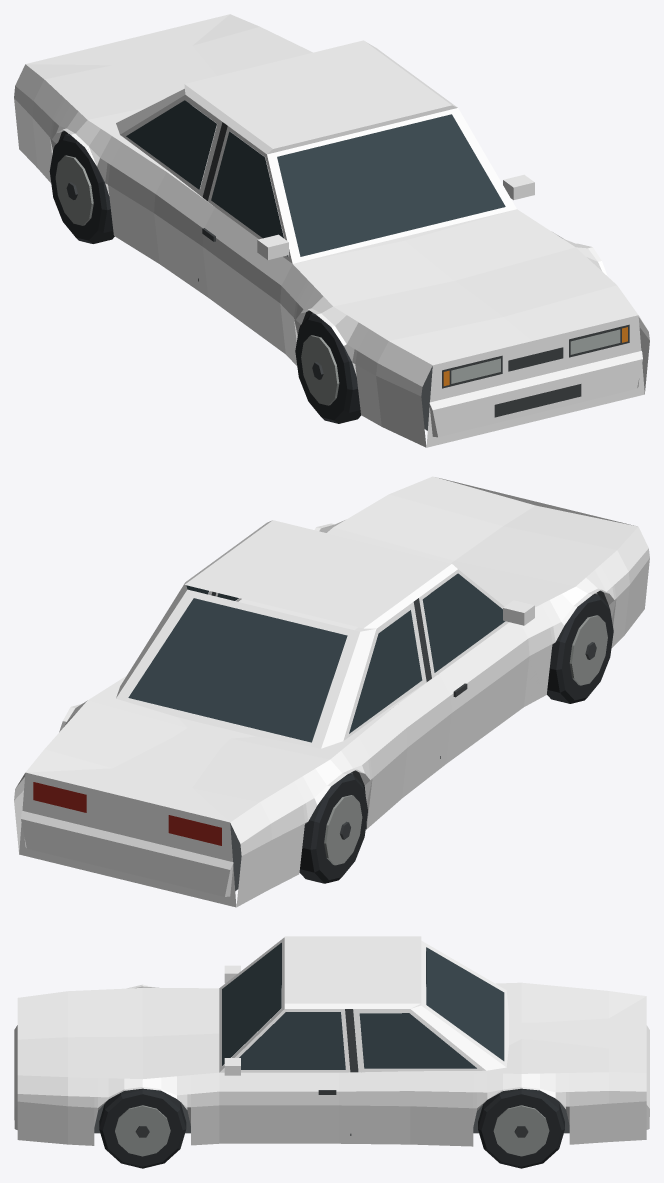
File: tokiwa_mizuho.glb
3 renders of one model, top to bottom at view 1: azimuth 30°, elevation 25°; view 2: azimuth 150°, elevation 25°; view 3: azimuth 270°, elevation 25°, orthographic. The views are drawn at different scales.
Parts seen in each view (by area): view 1: tokiwa_mizuho; view 2: tokiwa_mizuho; view 3: tokiwa_mizuho.
Part boxes in pixels (x1,y1,x2,y2): tokiwa_mizuho: (14,14,649,447); tokiwa_mizuho: (14,476,649,907); tokiwa_mizuho: (14,936,649,1168).
Size of the model in its own units: 1.82 by 1.22 by 4.7.
Materials: 8 (1 with a texture image).
